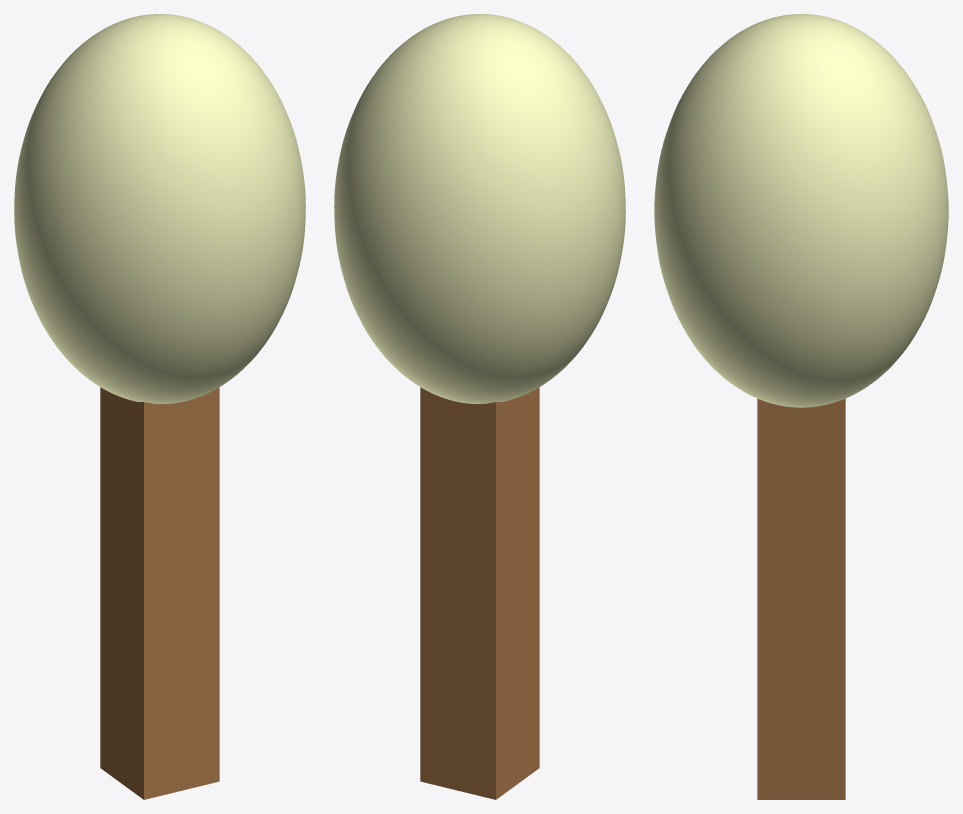
Rendered from torch.gltf.
3 renders of one model, left to right at view 1: azimuth 30°, elevation 25°; view 2: azimuth 150°, elevation 25°; view 3: azimuth 270°, elevation 25°, orthographic.
Parts seen in each view (by area): view 1: Sphere, Cube; view 2: Sphere, Cube; view 3: Sphere, Cube.
Part boxes in pixels (x1,y1,x2,y2): Sphere: (14, 14, 305, 403); Cube: (100, 387, 219, 799); Sphere: (334, 14, 625, 403); Cube: (420, 387, 539, 799); Sphere: (654, 14, 948, 407); Cube: (757, 398, 845, 799).
Size of the model in its own units: 0.5 by 1.42 by 0.5.
